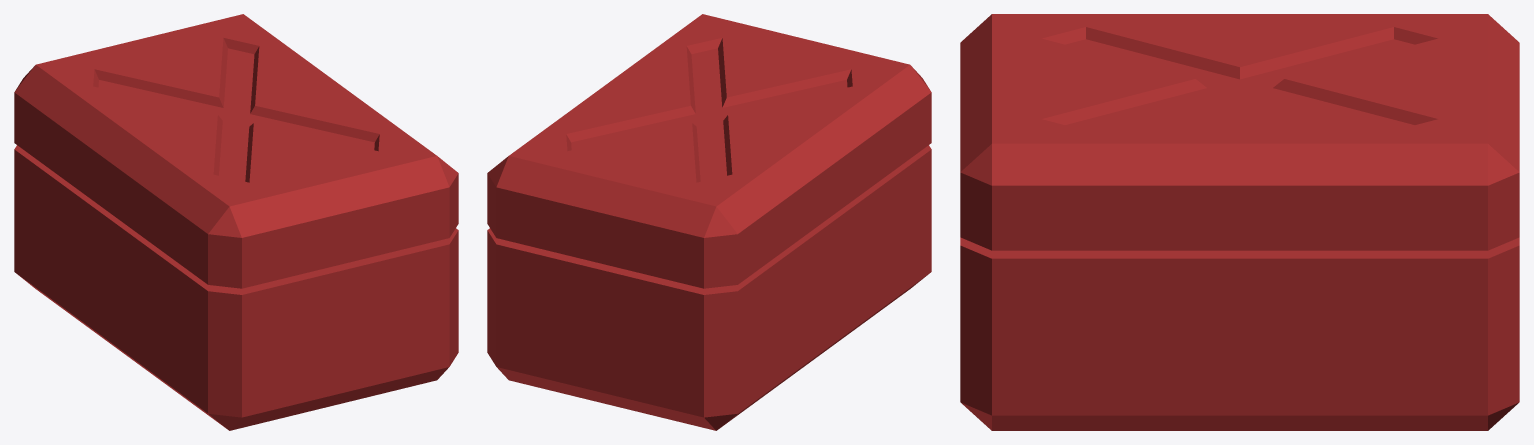
3 renders of one model, left to right at view 1: azimuth 30°, elevation 25°; view 2: azimuth 150°, elevation 25°; view 3: azimuth 270°, elevation 25°, orthographic. The views are drawn at different scales.
Visible parts, largest first — view 1: pCube315; view 2: pCube315; view 3: pCube315.
Part boxes in pixels (left/top/right/bottom): pCube315: left=14, top=14, right=458, bottom=430; pCube315: left=487, top=14, right=931, bottom=430; pCube315: left=960, top=14, right=1519, bottom=430.
Size of the model in its own units: 36.4 by 55 by 31.17.
